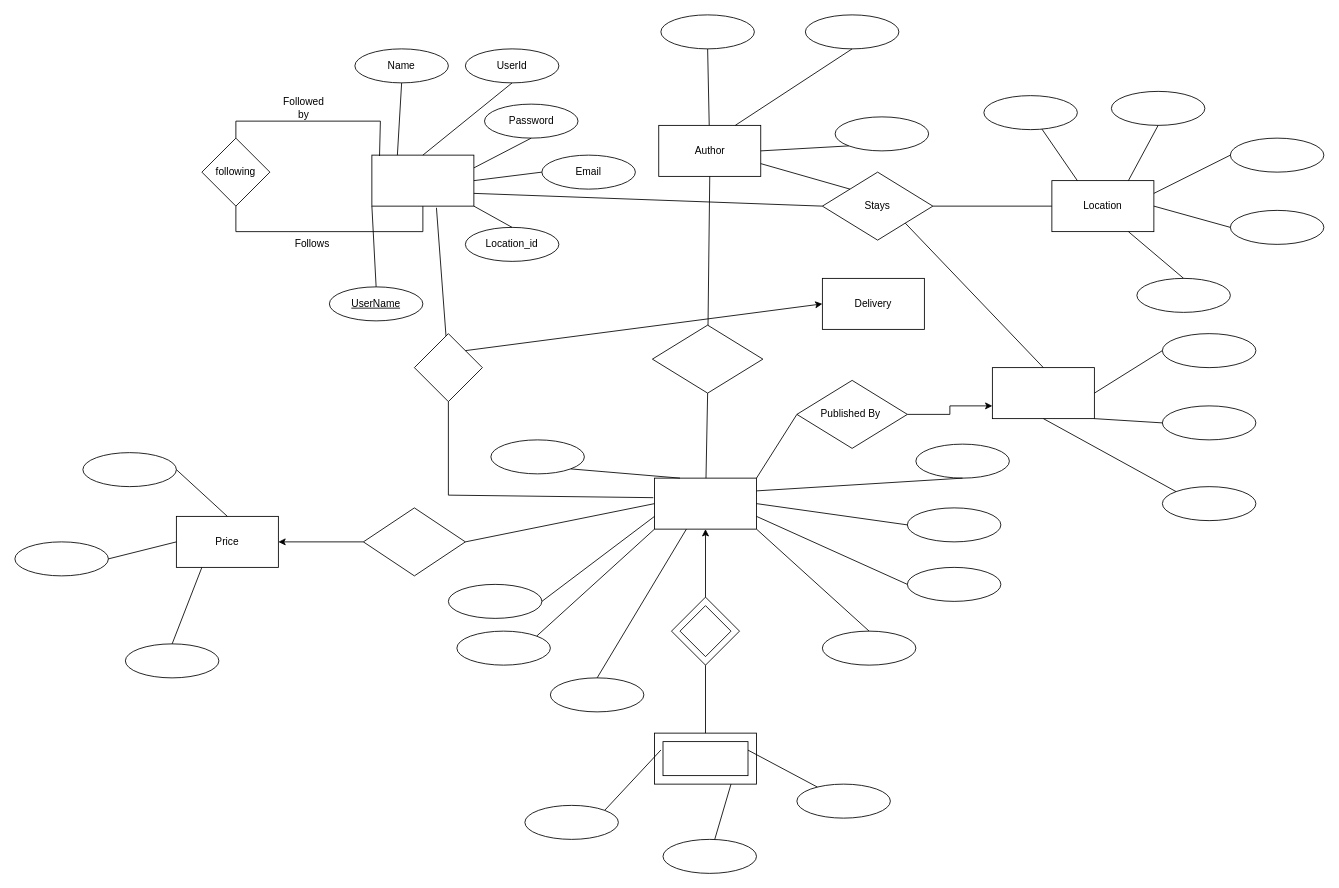
Some shapes in this 1339 by 888 pixel diagram are drawn without their labels. The shapes that lost their labels are listed below. From the top down, each one's centre as x and y in pixels, then its label:
(x=422, y=180): users
(x=448, y=367): Transaction
(x=707, y=358): AuthorOfBook
(x=1043, y=393): Publication
(x=705, y=503): Book
(x=414, y=541): Has
(x=705, y=758): Reviews/Ratings
